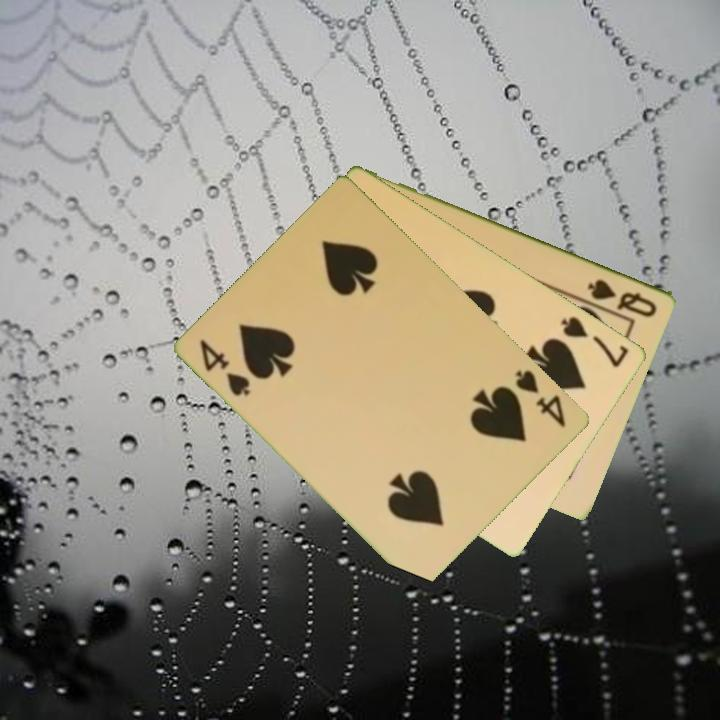4s: (512, 366, 570, 431), (196, 335, 254, 399)
7s: (557, 312, 632, 371)
Qs: (584, 275, 660, 320)
